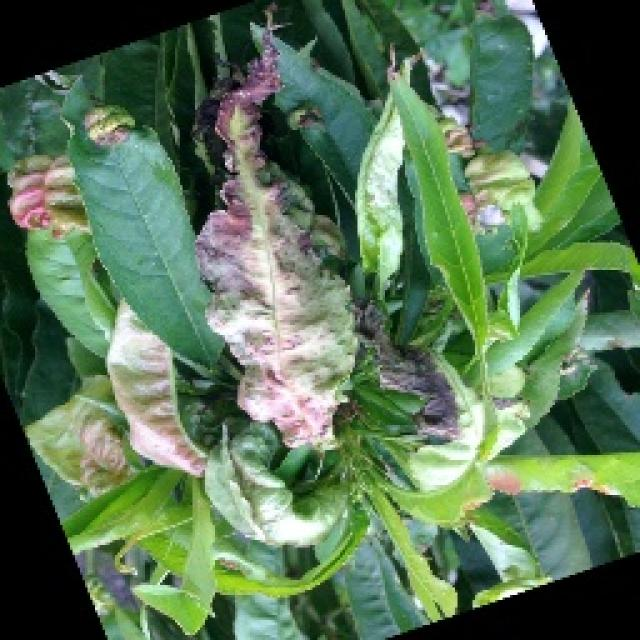peach_leaf_curl: (178, 63, 466, 470)
